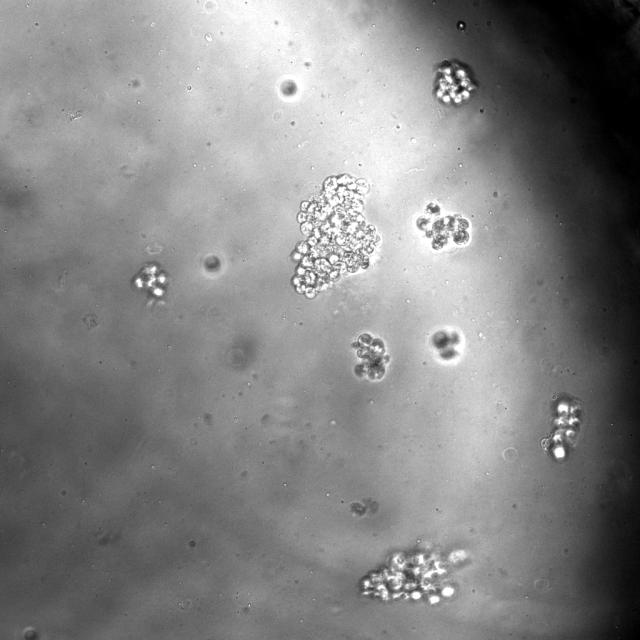organoid: (292, 174, 380, 298), (359, 541, 469, 605), (541, 396, 583, 461), (416, 202, 470, 250), (433, 59, 477, 105), (352, 332, 389, 381), (132, 262, 168, 299), (430, 327, 464, 363), (277, 77, 299, 101), (203, 254, 221, 272)
